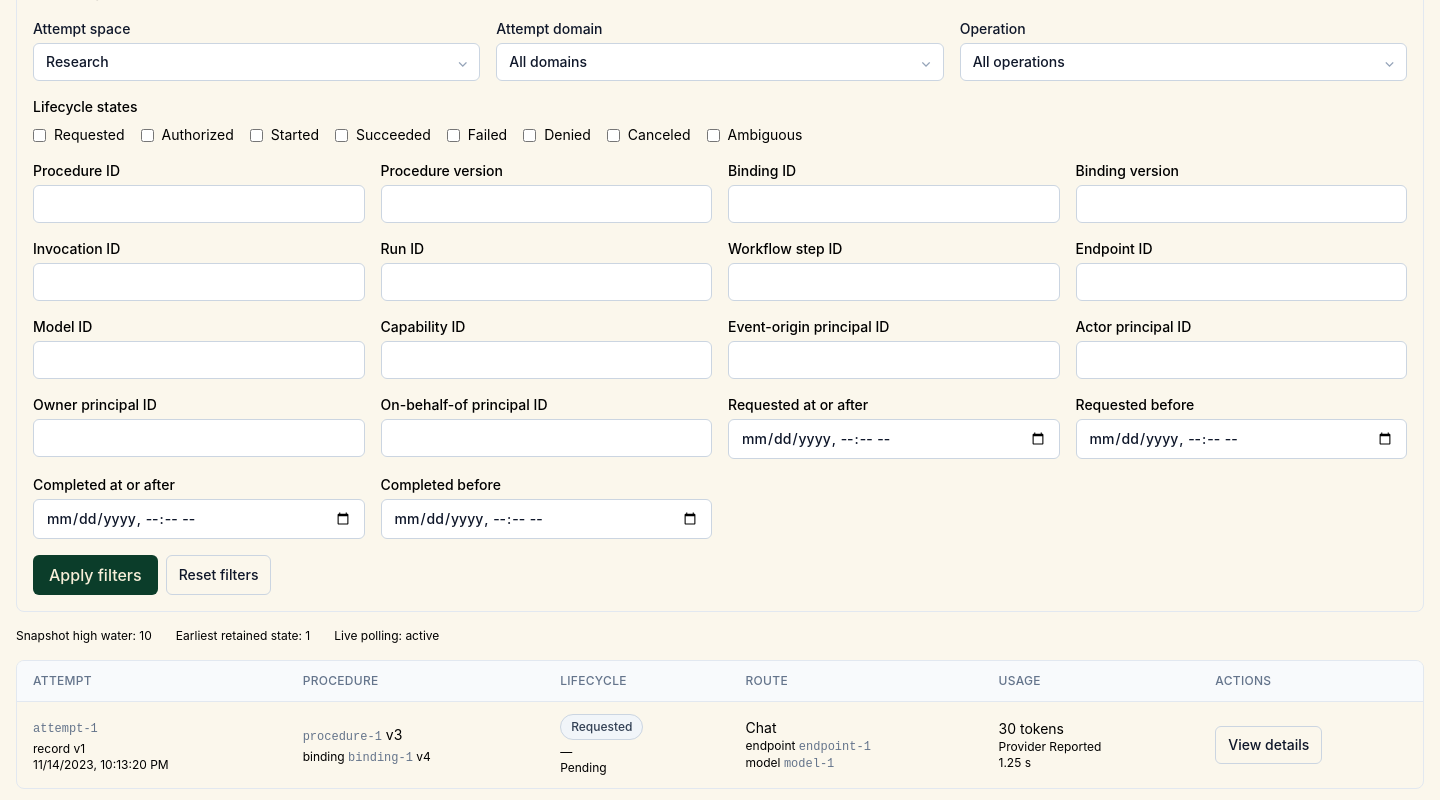
shows safe attribution and route detail without rendering extra sensitive properties
This screenshot has width=1440, height=800.
(page scrolled)
Expected: the text "30 tokens" is shown, [998, 720, 1064, 737]
What coordinates should you click on to do the following:
click the button "View details"
I would click on:
 (1269, 745)
Its box is [1215, 726, 1322, 764].
(page scrolled)
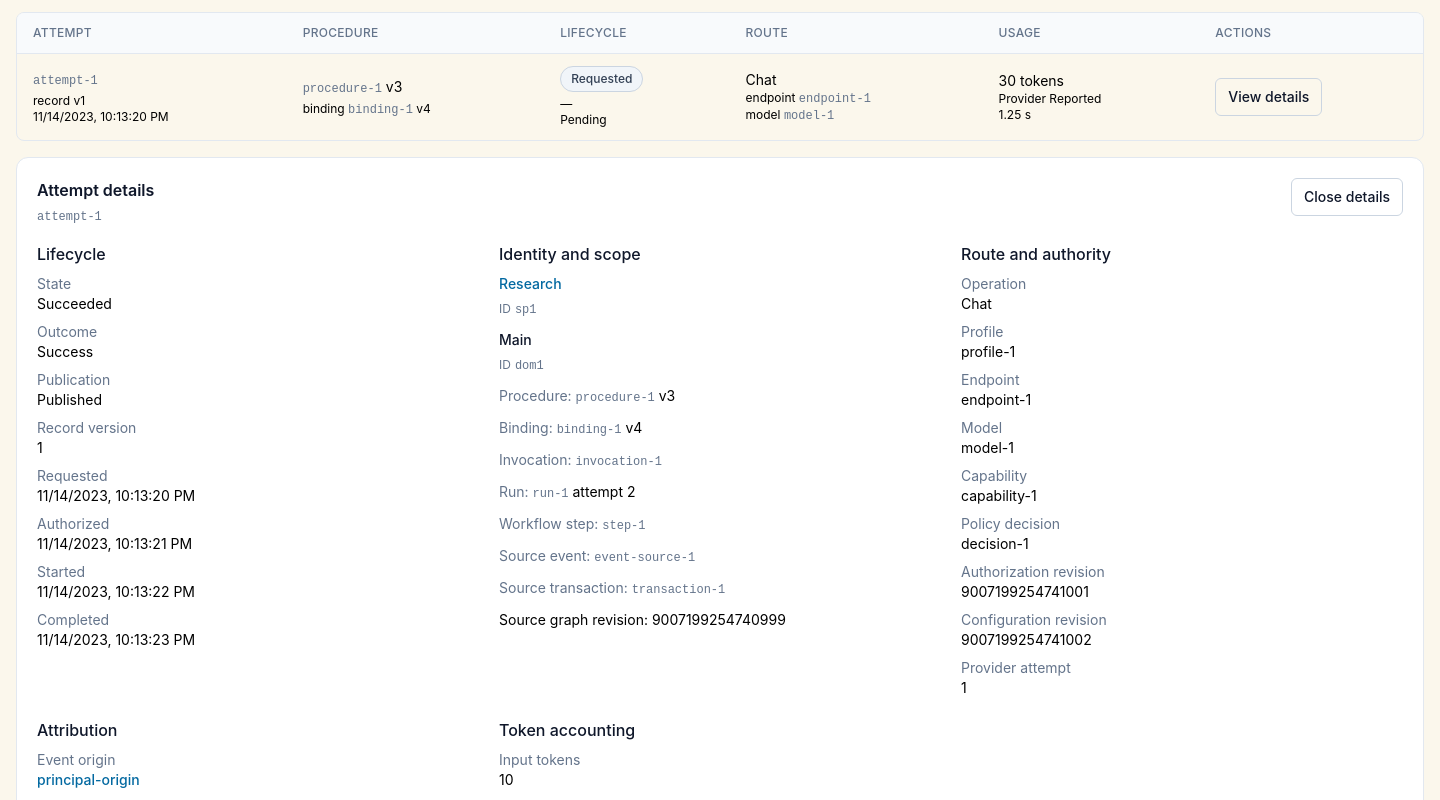
Expected: the text "endpoint-1" below "Usage" is shown, [799, 92, 871, 106]
Expected: the text "9007199254741001" is shown, [961, 583, 1089, 600]
Expected: the text "Published" is shown, [37, 391, 102, 408]
